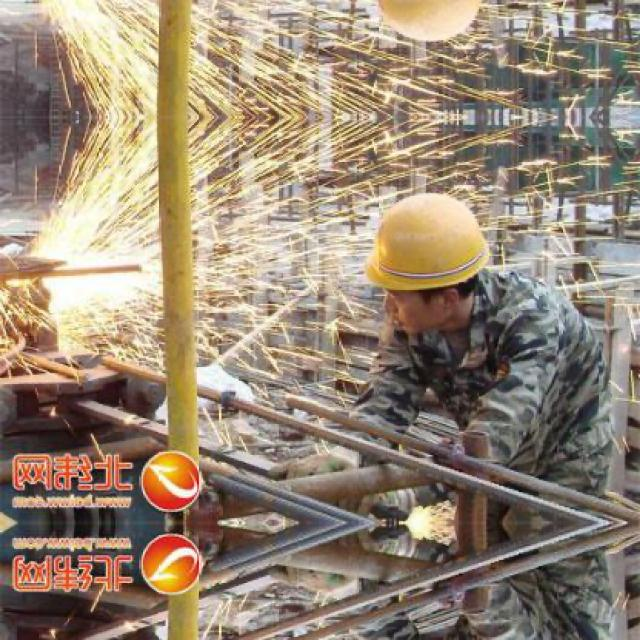helmet: (349, 176, 502, 345), (349, 0, 503, 60)
